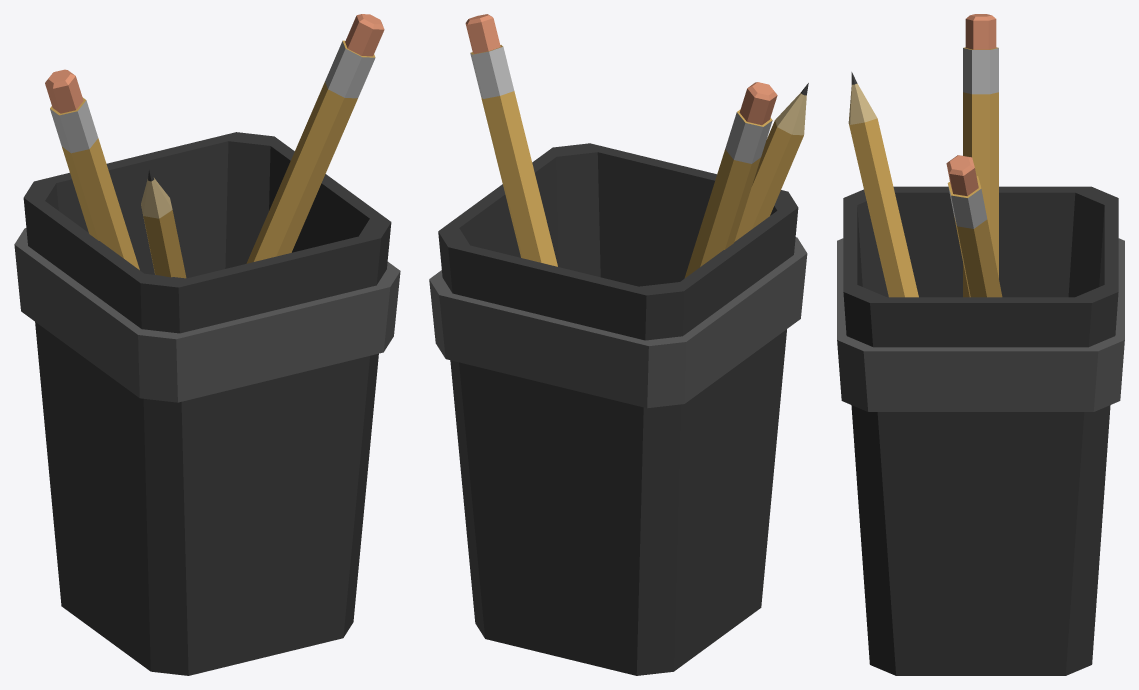
Rendered from OfficeProps_01.fbx.
The picture shows the model from 3 angles, left to right: view 1: azimuth 30°, elevation 25°; view 2: azimuth 150°, elevation 25°; view 3: azimuth 270°, elevation 25°; orthographic projection. The views are drawn at different scales.
Visible parts, largest first — view 1: OfficeProps_01; view 2: OfficeProps_01; view 3: OfficeProps_01.
Boxes of the visible parts, x1,y1,x2,y2 form: OfficeProps_01: [14, 14, 400, 675]; OfficeProps_01: [429, 14, 808, 675]; OfficeProps_01: [837, 14, 1124, 675].
Bounding box in the file's own units: 12.57 × 21.39 × 10.19.
